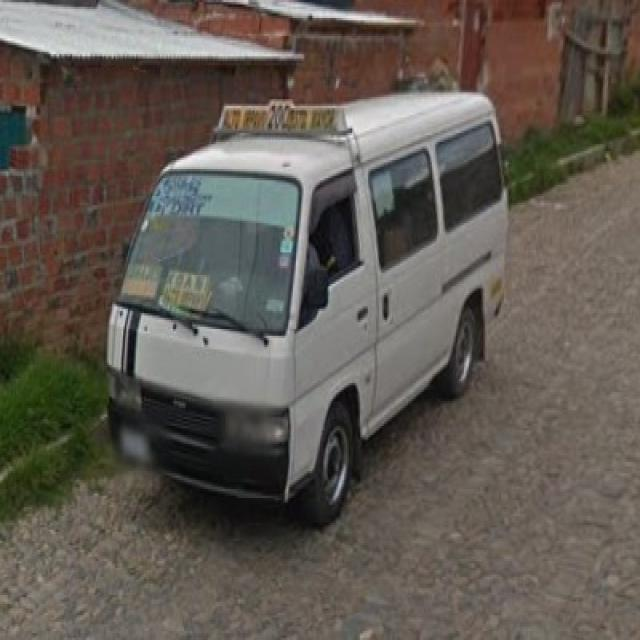cars: (108, 76, 520, 508)
